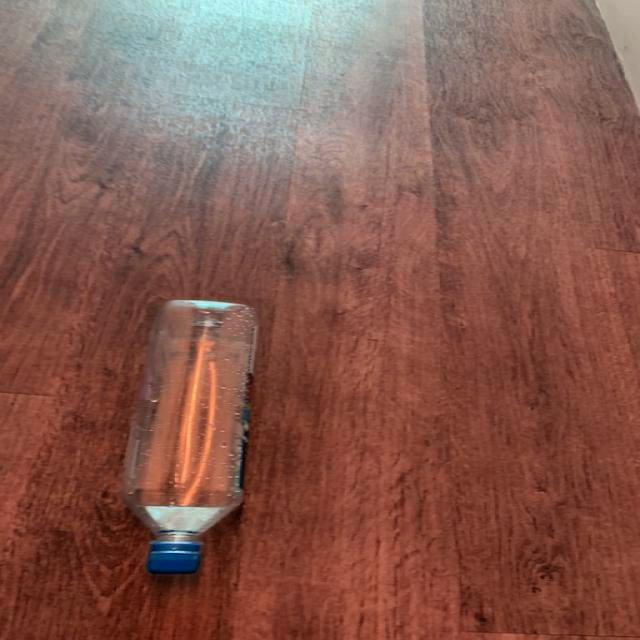bottle: (122, 300, 259, 575)
